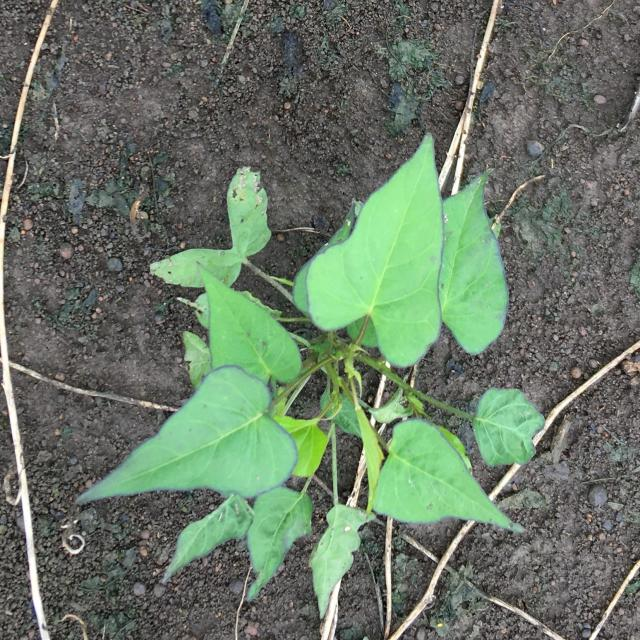MorningGlory: (79, 134, 547, 618)
